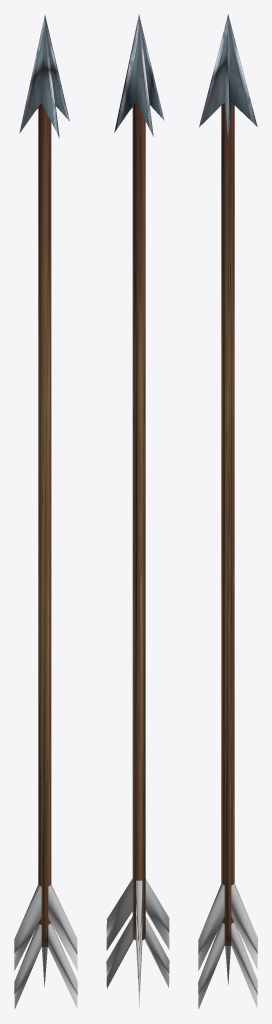
Rendered from Arrow_02.fbx.
The picture shows the model from 3 angles, left to right: view 1: azimuth 30°, elevation 25°; view 2: azimuth 210°, elevation 25°; view 3: azimuth 270°, elevation 25°; orthographic projection.
Parts seen in each view (by area): view 1: Arrow_01; view 2: Arrow_01; view 3: Arrow_01.
Part boxes in pixels (bbox=[...]): Arrow_01: bbox=[14, 14, 77, 1009]; Arrow_01: bbox=[106, 14, 169, 1007]; Arrow_01: bbox=[198, 14, 257, 1008].
Size of the model in its own units: 77.55 by 1316 by 72.12.
